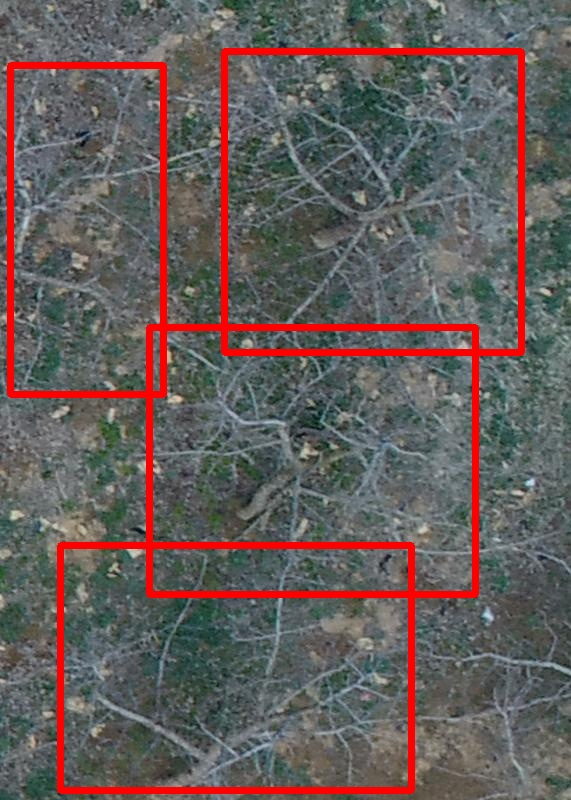apple: (224, 51, 521, 352), (149, 327, 475, 594), (60, 545, 411, 790), (10, 65, 163, 394)
